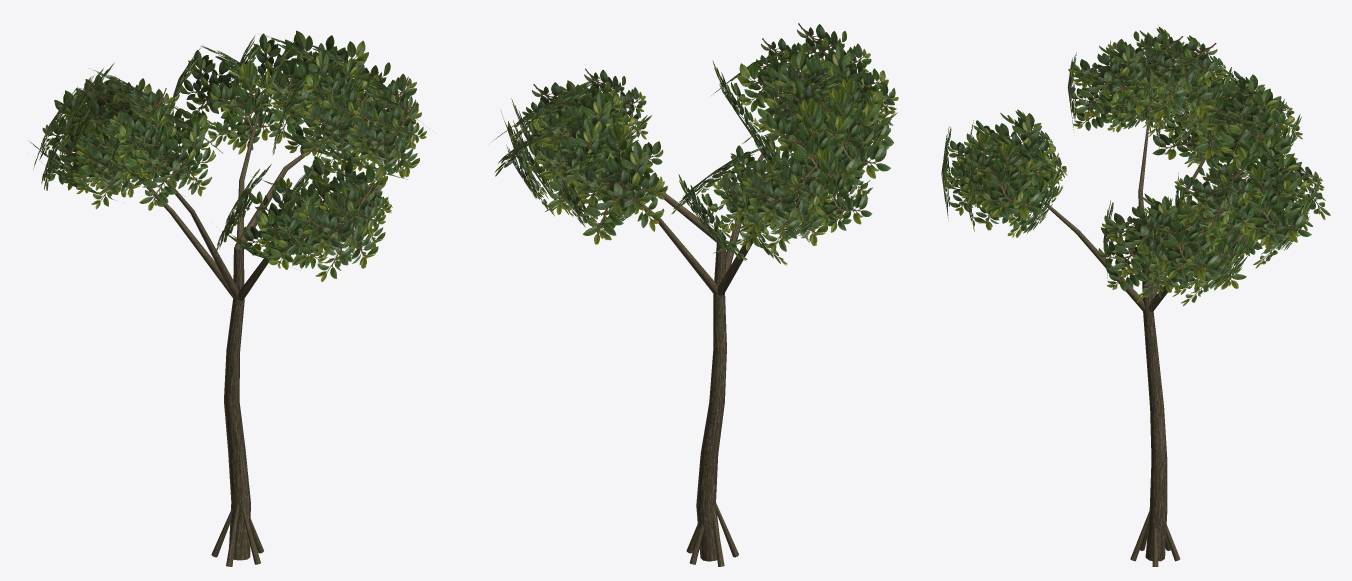
Rendered from tree_lod_01.glb.
3 renders of one model, left to right at view 1: azimuth 30°, elevation 25°; view 2: azimuth 150°, elevation 25°; view 3: azimuth 270°, elevation 25°, orthographic. The views are drawn at different scales.
Parts seen in each view (by area): view 1: tree_lod_01; view 2: tree_lod_01; view 3: tree_lod_01.
Boxes of the visible parts, x1,y1,x2,y2 form: tree_lod_01: [29, 30, 427, 566]; tree_lod_01: [492, 23, 898, 566]; tree_lod_01: [941, 27, 1330, 566].
Size of the model in its own units: 9.37 by 11.85 by 9.03.
2 materials, 2 textured.
